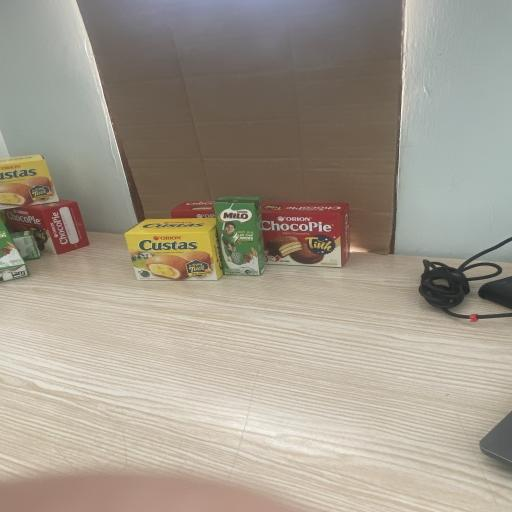chocopie: (261, 200, 349, 266), (168, 199, 216, 218)
custas: (123, 216, 223, 280)
milo: (214, 195, 266, 275)
